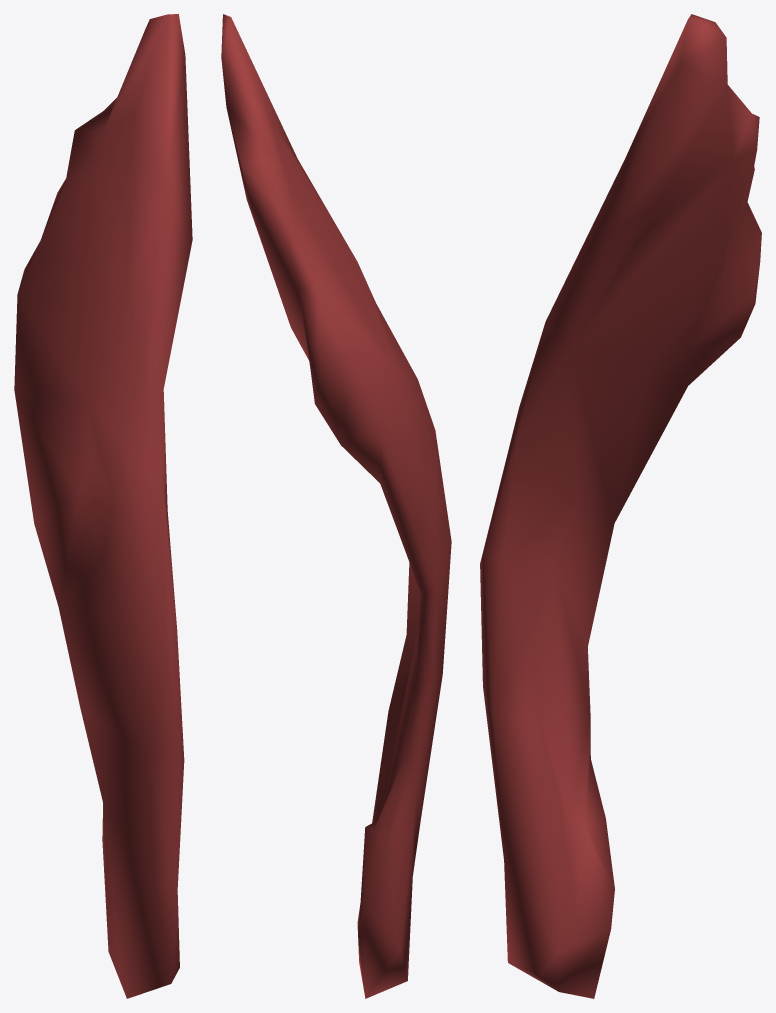
Rendered from levator-nasolabialis-r.glb.
The picture shows the model from 3 angles, left to right: view 1: azimuth 30°, elevation 25°; view 2: azimuth 150°, elevation 25°; view 3: azimuth 270°, elevation 25°; orthographic projection. The views are drawn at different scales.
Parts seen in each view (by area): view 1: Levator nasolabialis.r; view 2: Levator nasolabialis.r; view 3: Levator nasolabialis.r.
Part boxes in pixels (box(x1,y1,x2,y2)): Levator nasolabialis.r: box(14, 14, 192, 998); Levator nasolabialis.r: box(221, 14, 451, 998); Levator nasolabialis.r: box(480, 14, 761, 998).
Bounding box in the file's own units: 0.00545 × 0.0291 × 0.00723.
